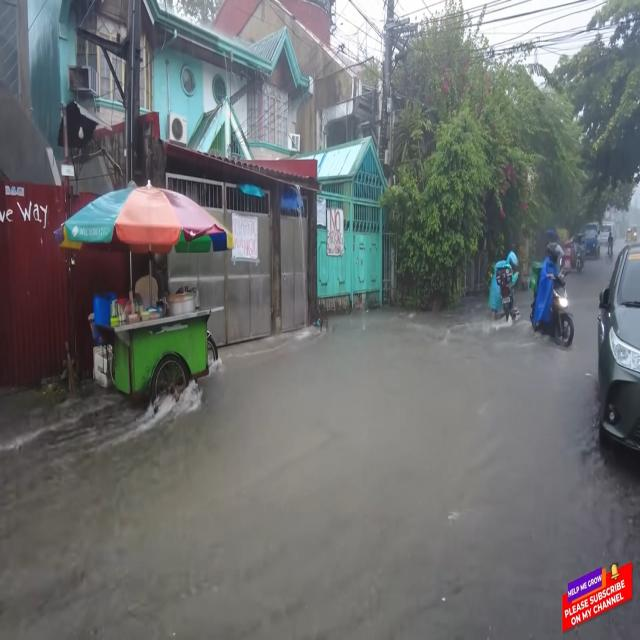half: (545, 240, 566, 266), (504, 248, 520, 271)
